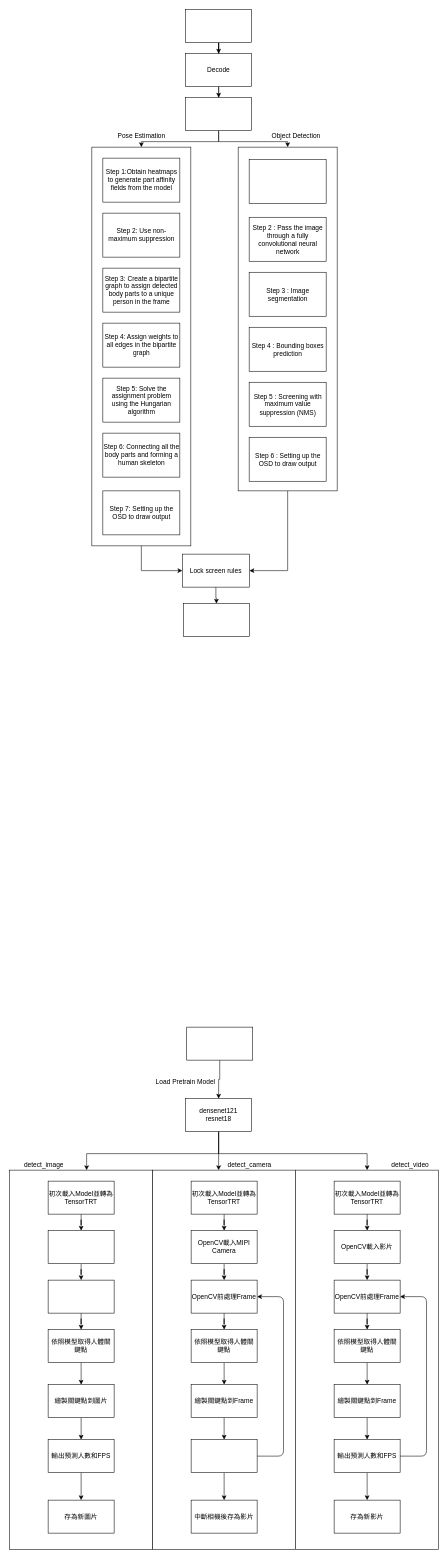
This 448x1559 diagram has some shape labels left out. The shapes that lost their labels are listed below. From the top down, each one's centre as x and y in pixels, then its label:
point (218, 26): Raw Image
point (218, 114): Batch
point (287, 181): Step 1 : Resize Image
point (216, 620): Send Socket
point (219, 1043): 安裝torch2trt
point (81, 1247): OpenCV載入圖片
point (81, 1296): OpenCV前處理圖片
point (224, 1456): Real Time和輸出預測人數和FPS
